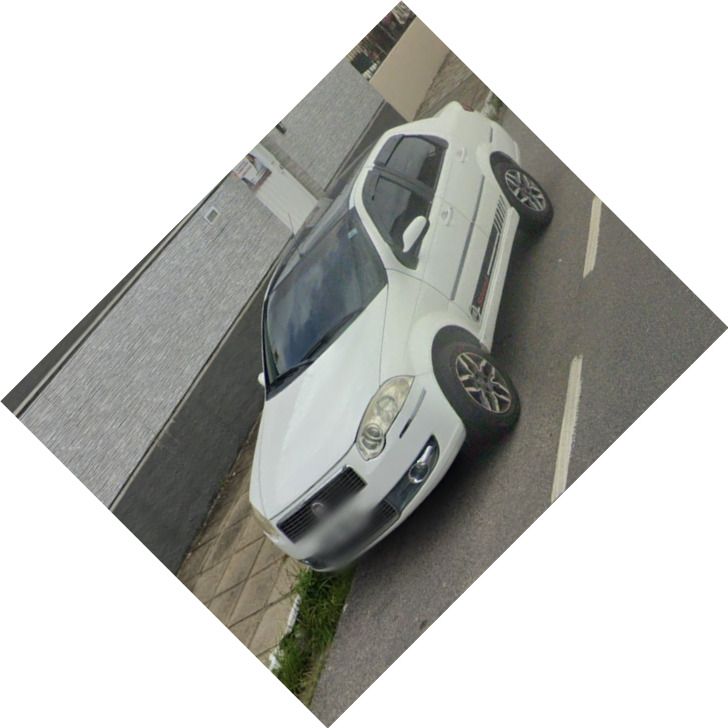car: (246, 100, 553, 572)
